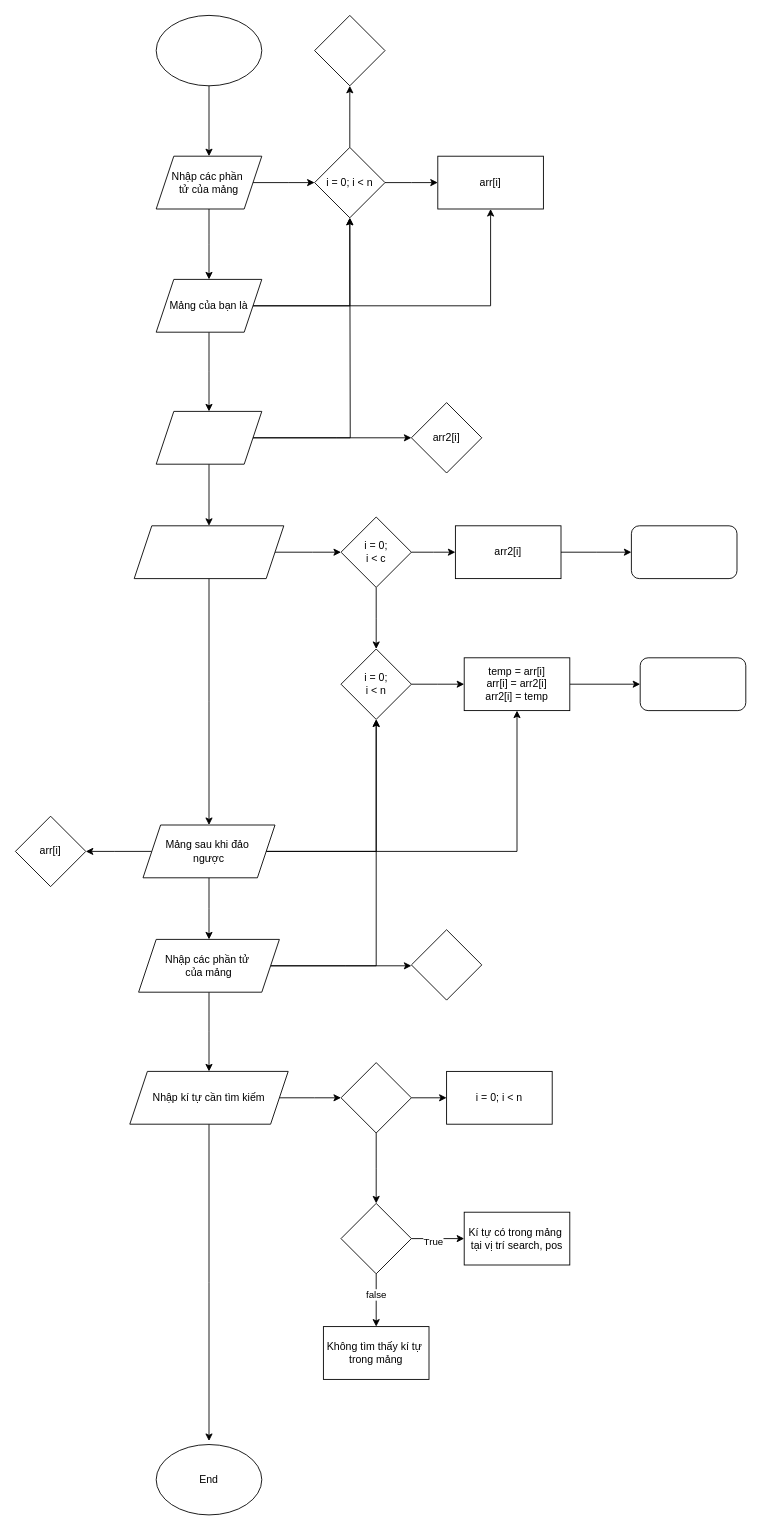
This 761x1530 diagram has some shape labels left out. The shapes that lost their labels are listed below. From the top down, each one's centre as x and y in pixels, then its label:
At pixel 208 50: "start".
At pixel 349 50: "arr2[i] = arr[i]".
At pixel 208 437: "Mảng đã sao chép là".
At pixel 208 552: "Nhập các phần tử của mảng khác".
At pixel 684 552: "Mảng sau khi đổi chỗ là mảng 2".
At pixel 692 684: "Mảng sau khi đổi chỗ là mảng 1".
At pixel 446 964: "arr[i] = ch".
At pixel 375 1097: "flag = 0".
At pixel 375 1238: "flag = 1".
